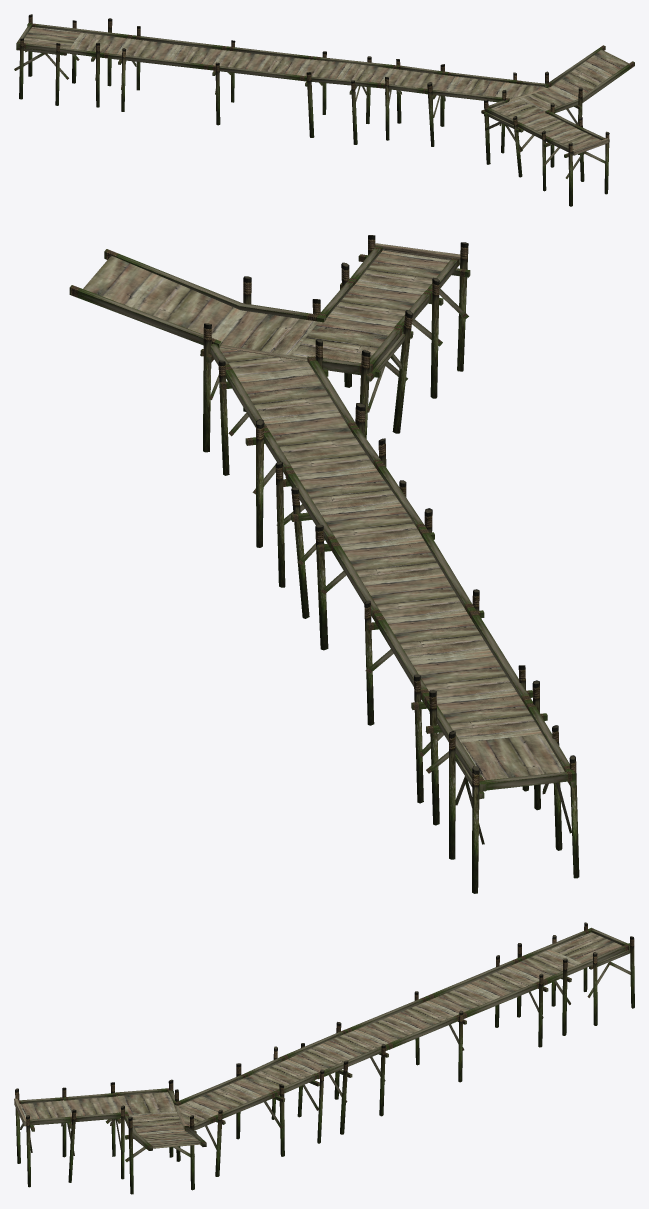
Rendered from pier_1_kings.fbx.
3 renders of one model, top to bottom at view 1: azimuth 30°, elevation 25°; view 2: azimuth 150°, elevation 25°; view 3: azimuth 270°, elevation 25°, orthographic. The views are drawn at different scales.
Parts seen in each view (by area): view 1: deck_top, deck_bottom, polySurface268, polySurface291, polySurface270, polySurface269, polySurface233, polySurface277, polySurface234, polySurface273, polySurface271, polySurface272 (+5 smaller); view 2: deck_top, deck_bottom, polySurface291, polySurface292, polySurface268, pylon_172, pylon_124, pylon_121, pylon_113, polySurface214, pylon_120, pylon_175 (+7 smaller); view 3: deck_top, deck_bottom, polySurface269, polySurface233, polySurface268, polySurface271, polySurface270, polySurface276, polySurface272.
Boxes of the visible parts, x1,y1,x2,y2 form: deck_top: (24, 27, 600, 149); deck_bottom: (24, 29, 628, 147); polySurface268: (100, 52, 209, 69); polySurface291: (545, 61, 634, 113); polySurface270: (209, 65, 304, 81); polySurface269: (132, 35, 226, 50); polySurface233: (27, 23, 132, 38); polySurface277: (425, 89, 509, 102); polySurface234: (19, 43, 100, 56); polySurface273: (304, 76, 382, 88); polySurface271: (226, 46, 313, 59); polySurface272: (313, 56, 397, 69); deck_top: (217, 250, 564, 780); deck_bottom: (83, 252, 549, 779); polySurface291: (104, 249, 326, 322); polySurface292: (69, 285, 221, 348); polySurface268: (469, 610, 532, 706); pylon_172: (315, 524, 328, 650); pylon_124: (203, 323, 211, 452); pylon_121: (256, 419, 264, 547); pylon_113: (392, 310, 412, 433); polySurface214: (485, 771, 575, 790); pylon_120: (275, 461, 285, 587); pylon_175: (429, 690, 439, 825); deck_top: (20, 932, 622, 1148); deck_bottom: (21, 935, 618, 1146); polySurface269: (463, 981, 543, 1018); polySurface233: (543, 943, 629, 985); polySurface268: (426, 957, 521, 999); polySurface271: (387, 1014, 459, 1049); polySurface270: (346, 996, 429, 1032); polySurface276: (210, 1091, 277, 1122); polySurface272: (316, 1044, 388, 1079).
Size of the model in its own units: 32229 by 5682 by 35285.
Materials: 2 (2 with a texture image).
